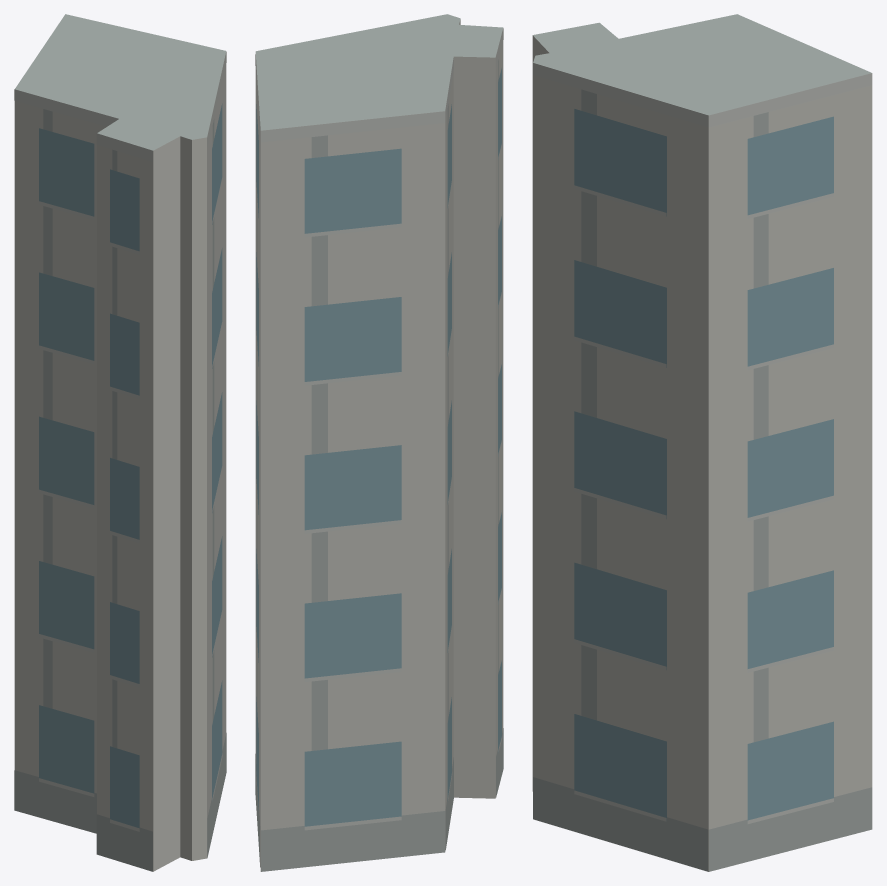
Rendered from survey-upis-32974604.glb.
The picture shows the model from 3 angles, left to right: view 1: azimuth 30°, elevation 25°; view 2: azimuth 150°, elevation 25°; view 3: azimuth 270°, elevation 25°; orthographic projection. The views are drawn at different scales.
Parts seen in each view (by area): view 1: survey-upis-32974604.tmp; view 2: survey-upis-32974604.tmp; view 3: survey-upis-32974604.tmp.
Part boxes in pixels (bbox=[...]): survey-upis-32974604.tmp: bbox=[14, 14, 226, 871]; survey-upis-32974604.tmp: bbox=[255, 14, 503, 871]; survey-upis-32974604.tmp: bbox=[532, 14, 872, 871].
Bounding box in the file's own units: 4.39 × 15.25 × 6.21.
